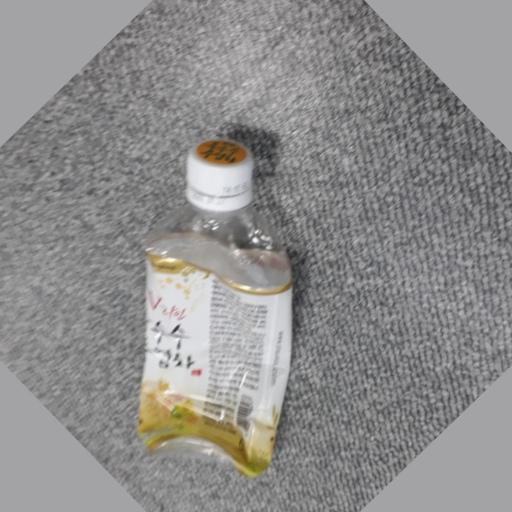Plastic_0: (134, 137, 297, 478)
